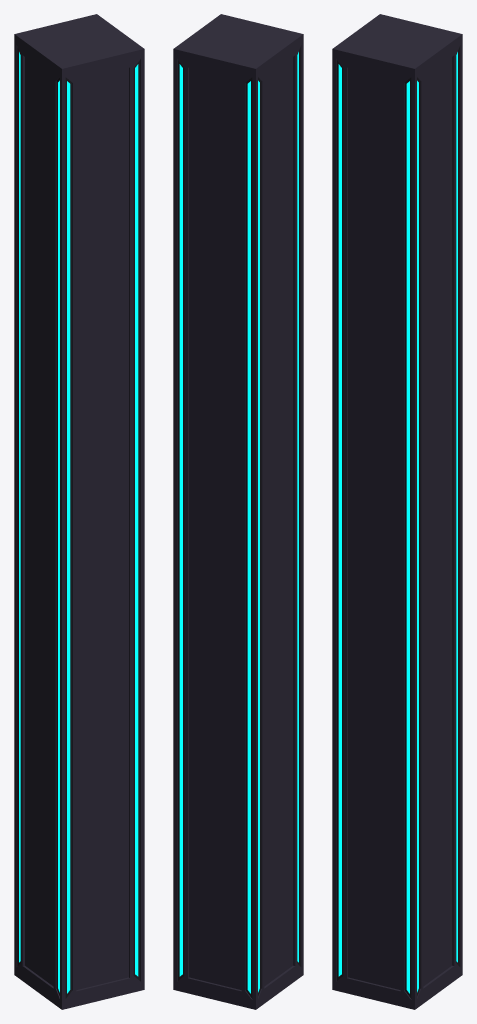
The model's file is wall_corner.glb.
3 views of the same model, side by side, from view 1: azimuth 30°, elevation 25°; view 2: azimuth 150°, elevation 25°; view 3: azimuth 330°, elevation 25° (orthographic).
Parts seen in each view (by area): view 1: SM_Wall_CornerCap; view 2: SM_Wall_CornerCap; view 3: SM_Wall_CornerCap.
Boxes of the visible parts, bbox=[...] form: SM_Wall_CornerCap: bbox=[14, 14, 144, 1009]; SM_Wall_CornerCap: bbox=[173, 14, 303, 1009]; SM_Wall_CornerCap: bbox=[332, 14, 462, 1009].
Bounding box in the file's own units: 0.22 × 2.4 × 0.22.
